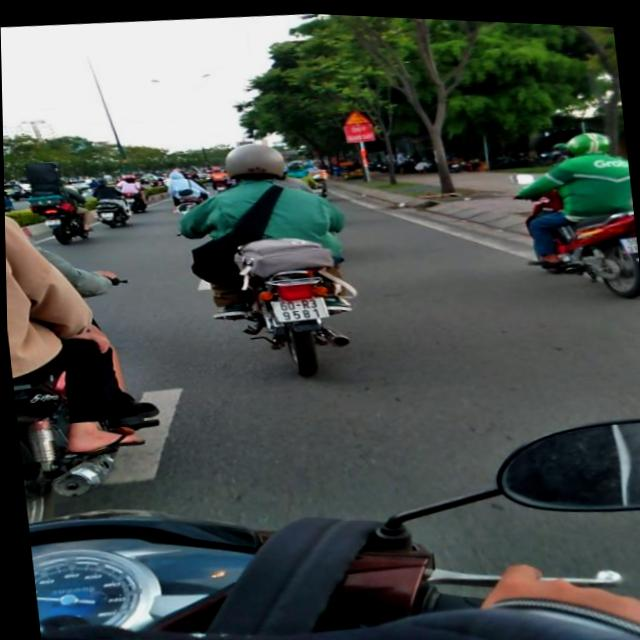Di cham: (341, 104, 371, 123)
